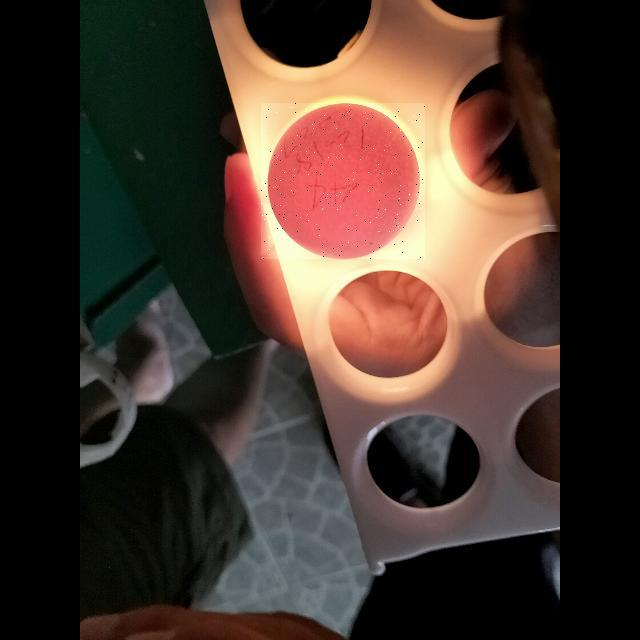Infertile: (261, 103, 425, 259)
